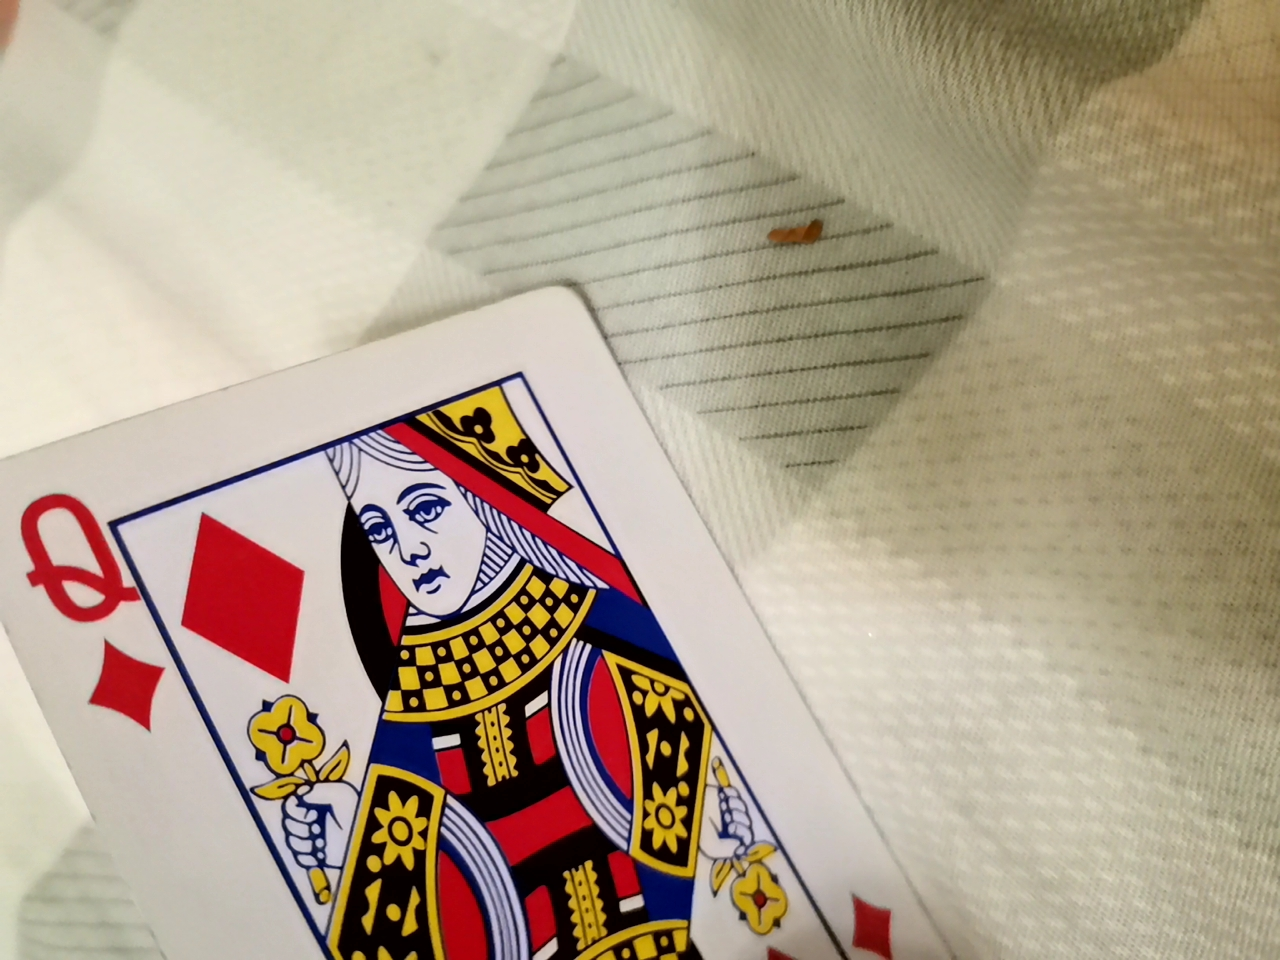fk q: (3, 279, 1037, 959)
